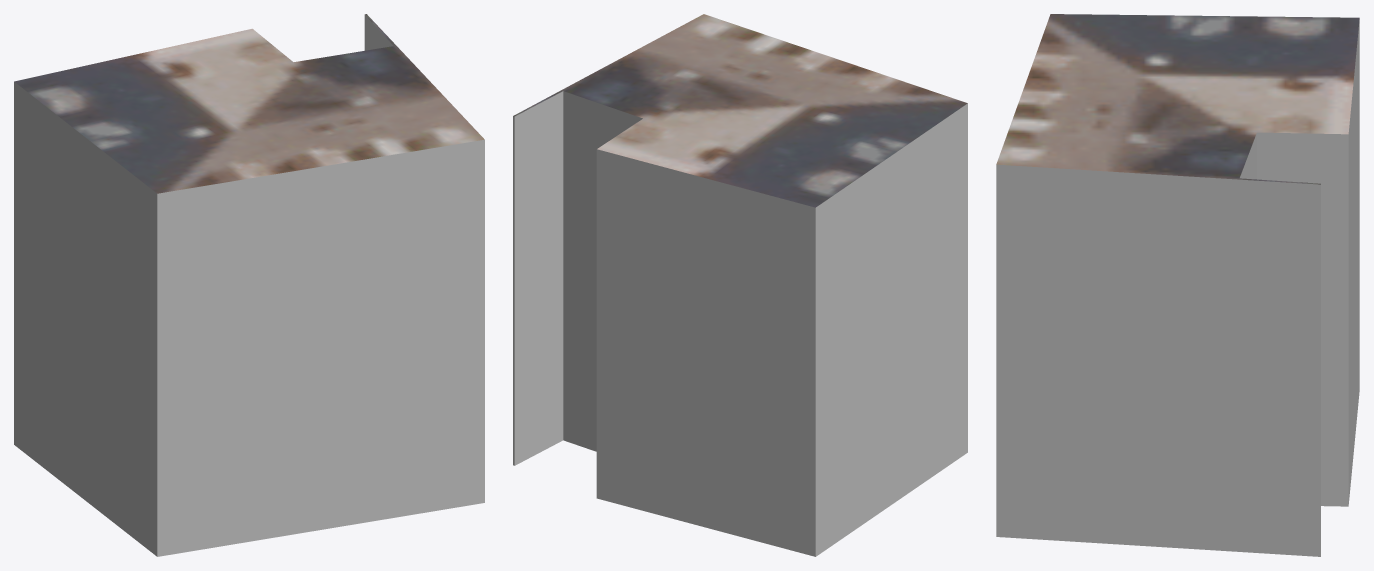
File: DEBW_0010007TxbD.gltf
3 renders of one model, left to right at view 1: azimuth 30°, elevation 25°; view 2: azimuth 150°, elevation 25°; view 3: azimuth 270°, elevation 25°, orthographic. The views are drawn at different scales.
Visible parts, largest first — view 1: Z_UP; view 2: Z_UP; view 3: Z_UP.
Boxes of the visible parts, <box> form: Z_UP: <box>14,14,484,556</box>; Z_UP: <box>513,14,967,556</box>; Z_UP: <box>996,14,1359,556</box>.
Size of the model in its own units: 16 by 16.28 by 14.4.
2 materials, 1 textured.
